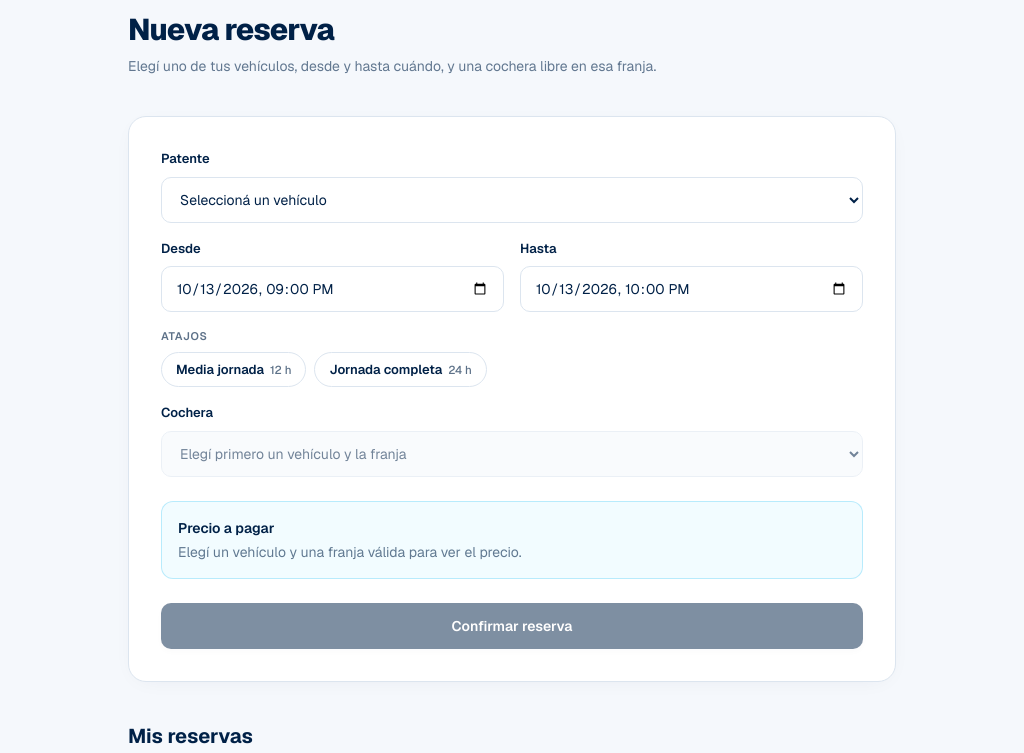
Test case: Lista de espera › un conflicto al confirmar recarga disponibilidad y ofrece espera sin aceptarla automáticamente
The width and height of the screenshot is (1024, 753).
Select "ABC123 — AUTO" in the dropdown labelled "Patente". click: (512, 200)
box: [161, 176, 863, 222]
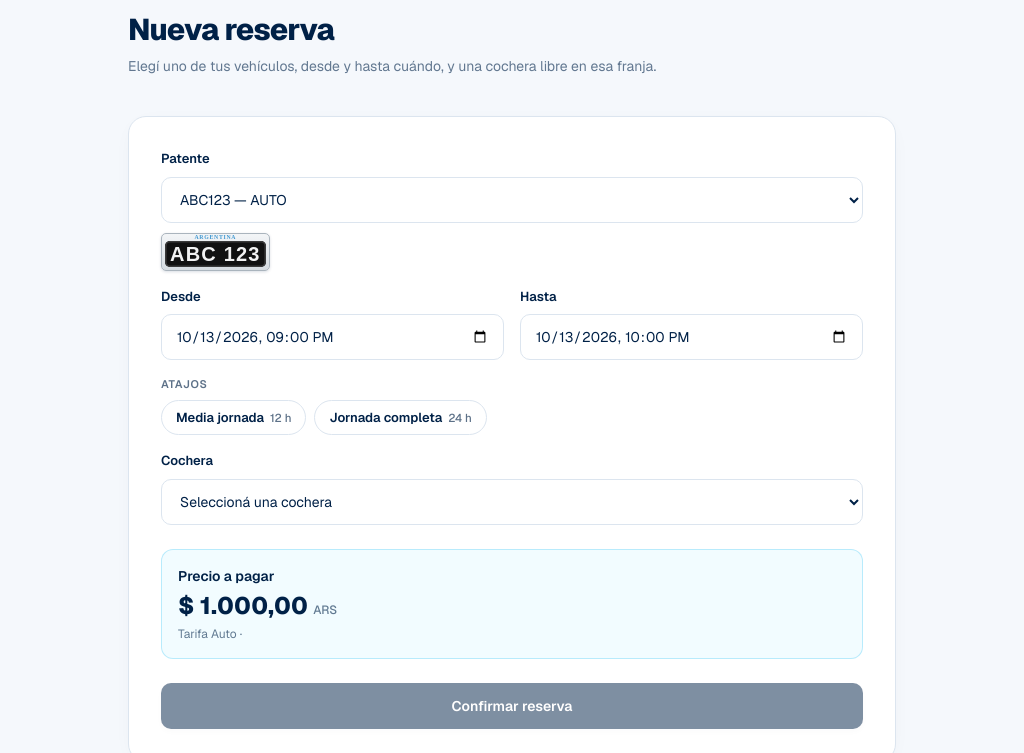
Select "A-01 — PB (AUTO)" in the dropdown labelled "Cochera". click: (512, 502)
box: [161, 479, 863, 525]
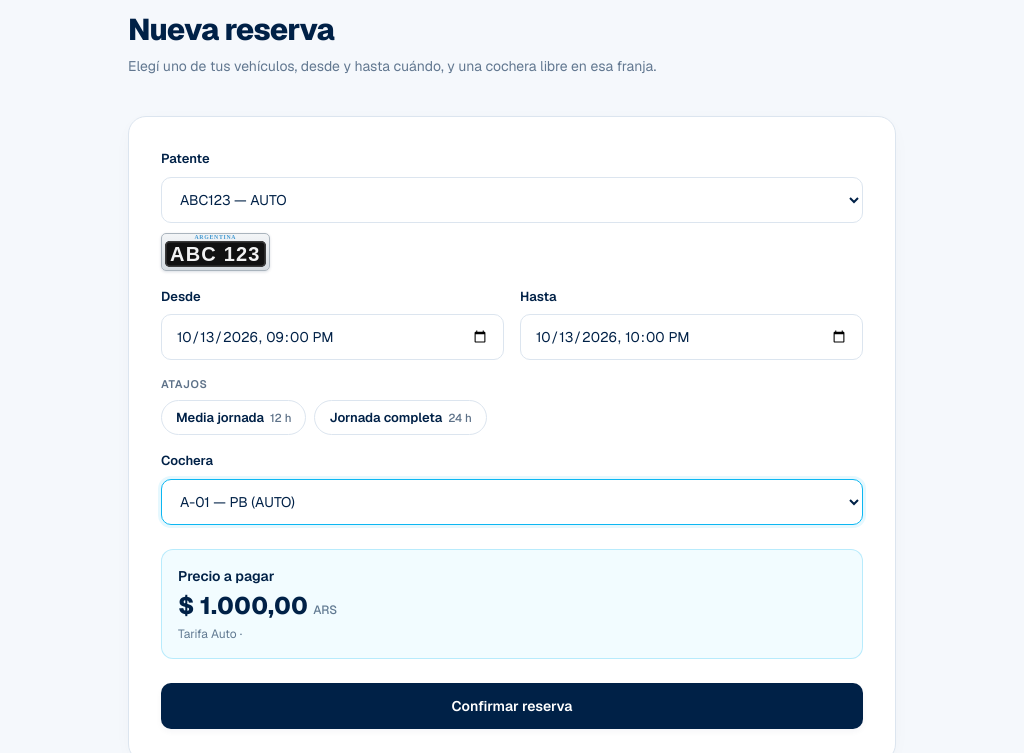
Click the button "Confirmar reserva". click: (512, 706)
box: [161, 683, 863, 729]
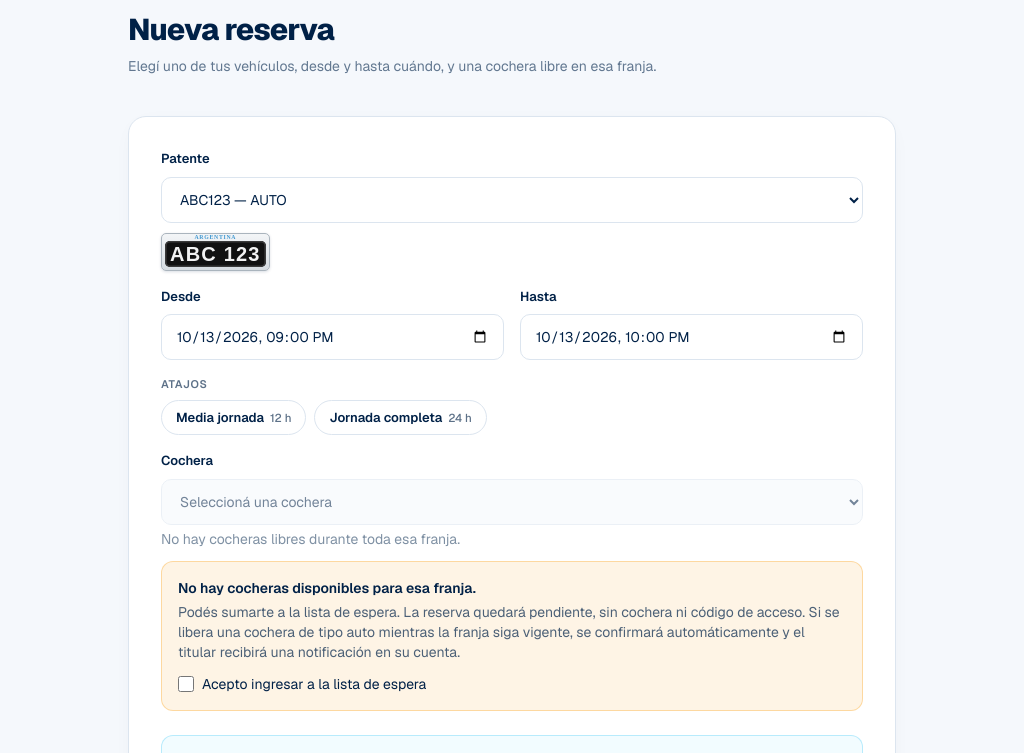
Check: the checkbox labelled "Acepto ingresar a la lista de espera" is not checked, box [178, 676, 194, 692]
